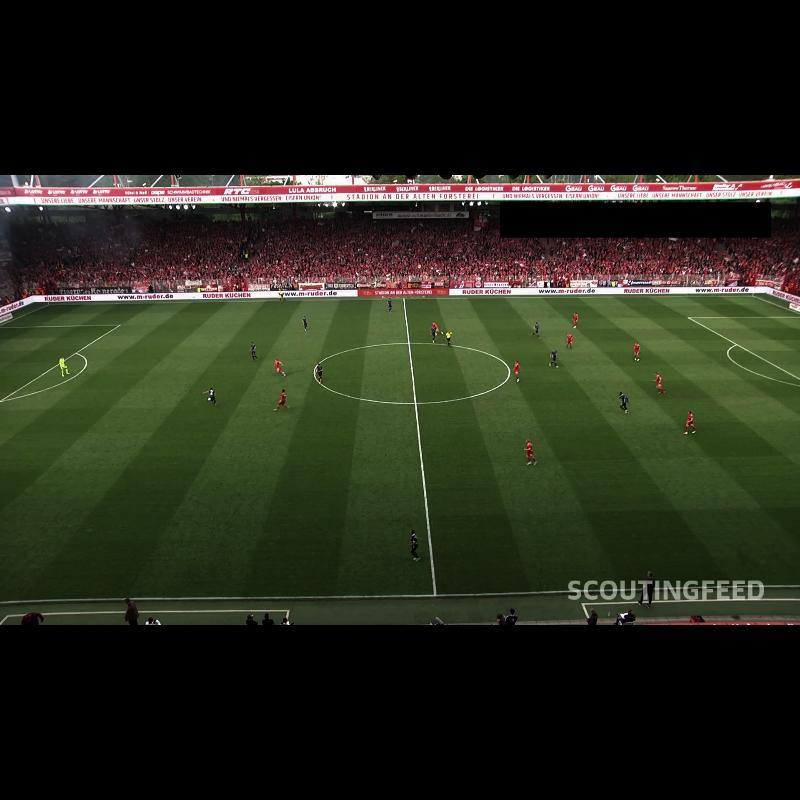cross_recipient_zone: (0, 325, 119, 402), (688, 316, 800, 379)
crossing_player_zone: (0, 301, 228, 328), (579, 296, 800, 317), (0, 472, 42, 512), (787, 456, 800, 466)
pitch: (0, 296, 800, 602)
